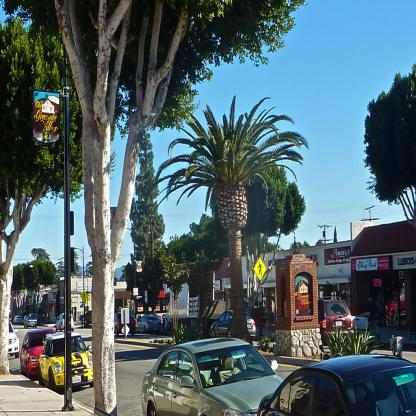Car: (8, 295, 416, 416)
